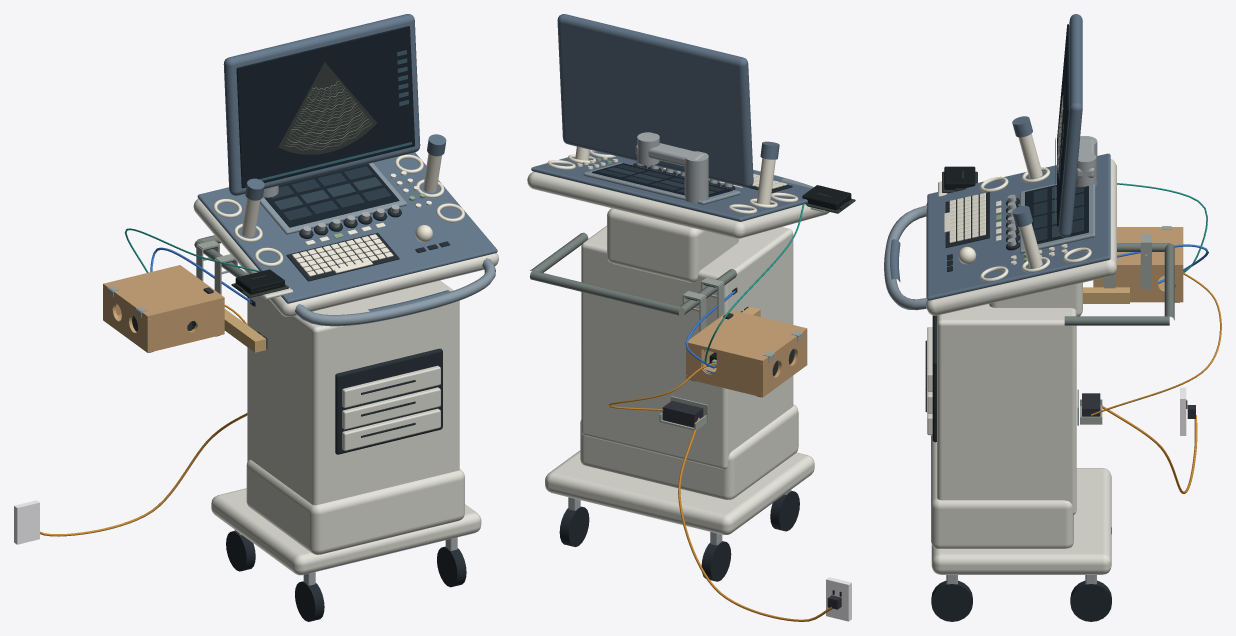
File: forher-recorder-v11-forward-support.glb
3 views of the same model, side by side, from view 1: azimuth 30°, elevation 25°; view 2: azimuth 150°, elevation 25°; view 3: azimuth 270°, elevation 25° (orthographic).
Visible parts, largest first — view 1: Rounded lower machine body, Dark monitor glass, Blue-grey operation fascia, Lower skirt transition, Wheeled pedestal, Blue-grey monitor bezel, Front removable module face (×3), Synthetic ultrasound fan - no patient data, Wide operation interface table, A hinged top plywood, Front equipment bay, Caster wheel (×3) (+10 smaller); view 2: Rounded lower machine body, Blue-grey monitor bezel, Wheeled pedestal, Lower skirt transition, Operation deck pedestal, Wide operation interface table, Blue-grey operation fascia, A hinged top plywood, Caster wheel (×3), E rear open U notch - 45 wide 63.5 deep R22.5, Rear transverse grip, C left ventilation diameter 45 x 2 (+12 smaller); view 3: Rounded lower machine body, Blue-grey operation fascia, Wheeled pedestal, Lower skirt transition, Wide operation interface table, Blue-grey monitor bezel, Caster wheel (×2), A hinged top plywood, D right cable hole diameter 45, Operation deck pedestal, Curved front push handle, Probe grip (×2) (+12 smaller).
Boxes of the visible parts, x1,y1,x2,y2 form: Rounded lower machine body: (247,280,459,505); Dark monitor glass: (236,26,414,188); Blue-grey operation fascia: (197,152,497,303); Lower skirt transition: (246,459,464,554); Wheeled pedestal: (211,488,481,575); Blue-grey monitor bezel: (223,14,420,195); Front removable module face (×3): (342,365,440,450); Synthetic ultrasound fan - no patient data: (278,62,376,154); Wide operation interface table: (193,198,498,316); A hinged top plywood: (103,265,224,319); Front equipment bay: (335,348,442,454); Caster wheel (×3): (226,531,466,621); Rounded lower machine body: (581,225,793,469); Blue-grey monitor bezel: (557,14,753,187); Wheeled pedestal: (545,450,814,534); Lower skirt transition: (580,404,798,499); Operation deck pedestal: (607,208,738,282); Wide operation interface table: (527,171,829,238); Blue-grey operation fascia: (531,151,811,221); A hinged top plywood: (687,310,807,363); Caster wheel (×3): (559,491,799,581); E rear open U notch - 45 wide 63.5 deep R22.5: (689,346,759,393); Rear transverse grip: (530,270,680,315); C left ventilation diameter 45 x 2: (760,332,807,393); Rounded lower machine body: (937,304,1076,514); Blue-grey operation fascia: (927,153,1110,300); Wheeled pedestal: (931,468,1111,574); Lower skirt transition: (931,435,1073,548); Wide operation interface table: (926,159,1116,315); Blue-grey monitor bezel: (1058,14,1082,237); Caster wheel (×2): (931,580,1111,621); A hinged top plywood: (1117,227,1183,268); D right cable hole diameter 45: (1093,268,1183,298); Operation deck pedestal: (989,282,1082,316); Curved front push handle: (884,205,927,310); Probe grip (×2): (1018,134,1042,268).
Size of the model in its own units: 1.02 by 1.42 by 0.8262.
